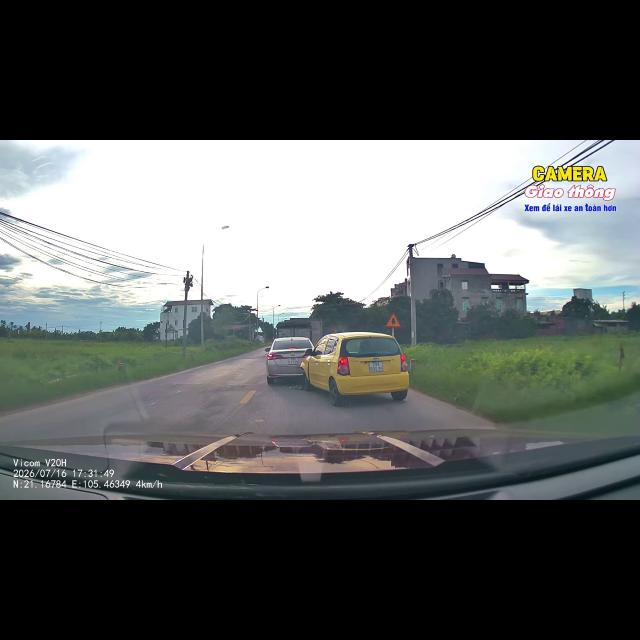car: (301, 332, 409, 405), (265, 337, 313, 384)
